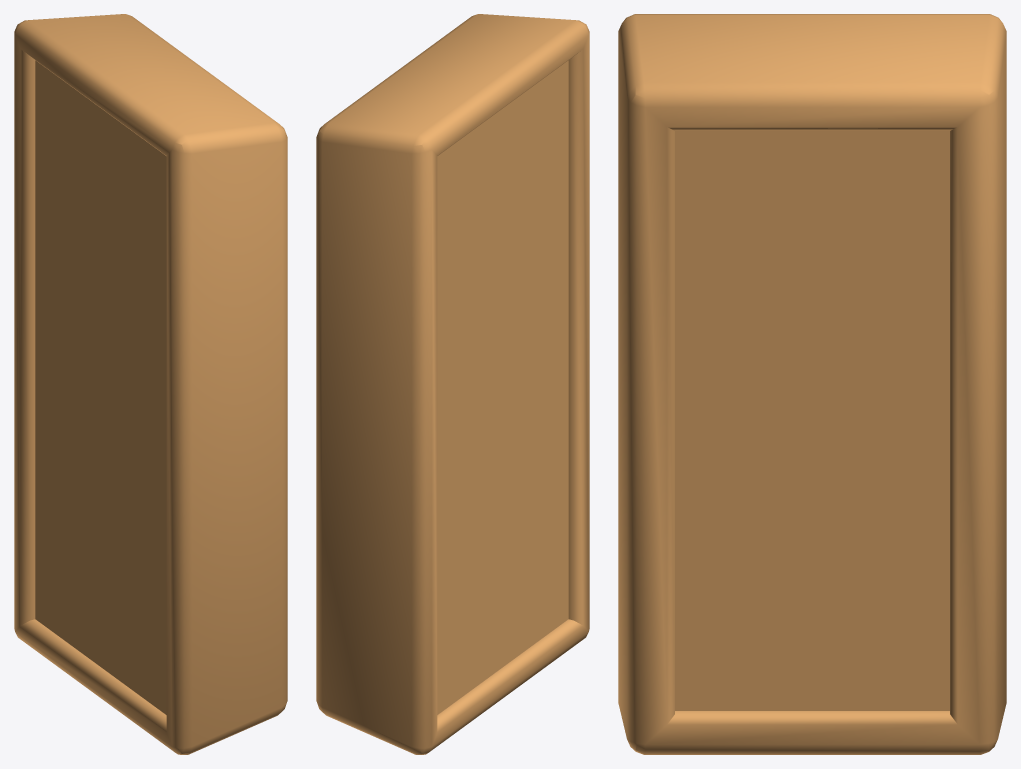
The model's file is GoldBar.fbx.
3 views of the same model, side by side, from view 1: azimuth 30°, elevation 25°; view 2: azimuth 150°, elevation 25°; view 3: azimuth 270°, elevation 25° (orthographic). The views are drawn at different scales.
Visible parts, largest first — view 1: Cube; view 2: Cube; view 3: Cube.
Part boxes in pixels (<box>): Cube: <box>14,14,287,754</box>; Cube: <box>316,14,589,754</box>; Cube: <box>618,14,1006,754</box>.
Size of the model in its own units: 80 by 398 by 199.
